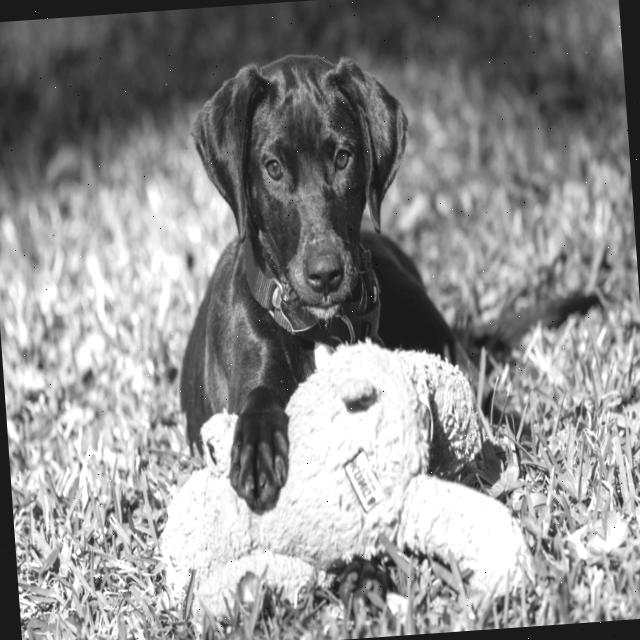labrador_retriever_dog: (186, 20, 436, 352)
